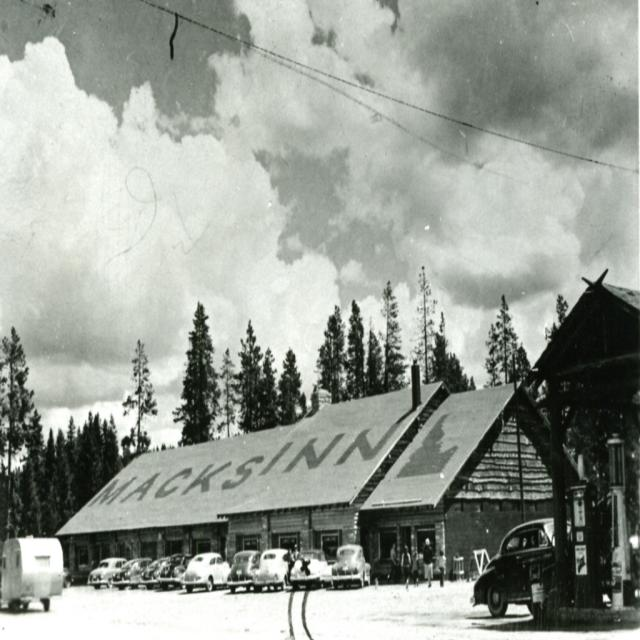car: (480, 526, 578, 606), (182, 546, 232, 589), (327, 540, 372, 583)
